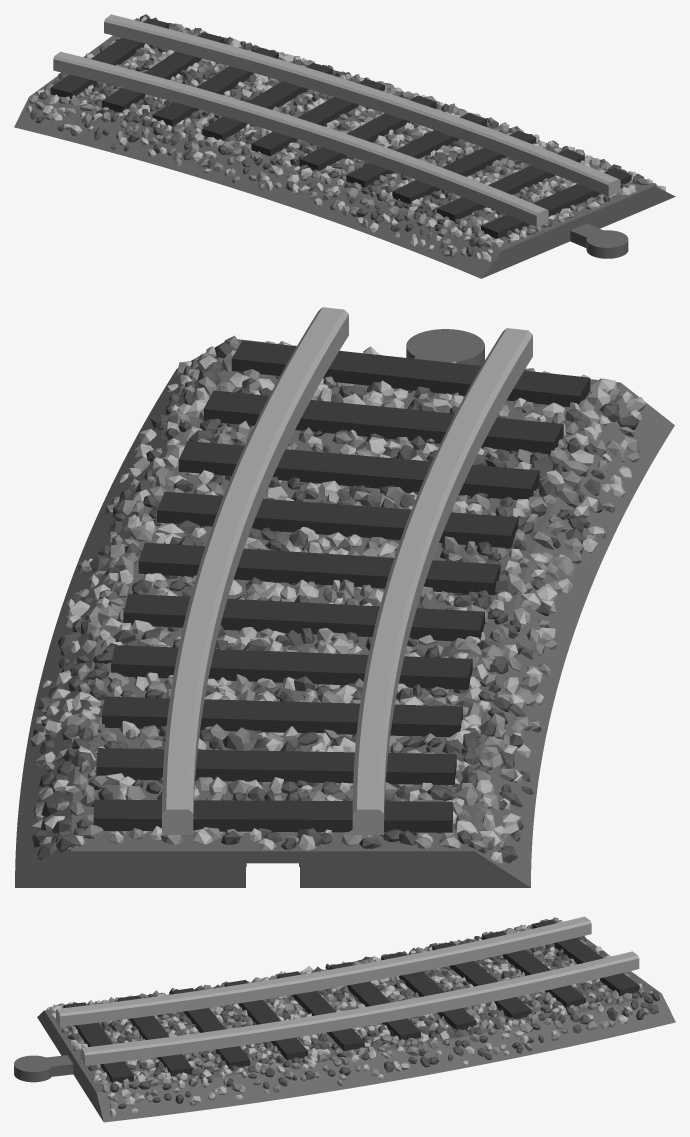
File: Rail_Right_60_75.obj
3 views of the same model, one above another, from view 1: azimuth 30°, elevation 25°; view 2: azimuth 150°, elevation 25°; view 3: azimuth 270°, elevation 25° (orthographic). The views are drawn at different scales.
Parts seen in each view (by area): view 1: Rail_Right_60_75; view 2: Rail_Right_60_75; view 3: Rail_Right_60_75.
Part boxes in pixels (x1,y1,x2,y2): Rail_Right_60_75: (14, 14, 675, 278); Rail_Right_60_75: (15, 307, 674, 887); Rail_Right_60_75: (14, 916, 675, 1122).
Bounding box in the file's own units: 0.821 × 0.0797 × 1.18.
1 material, 1 textured.
